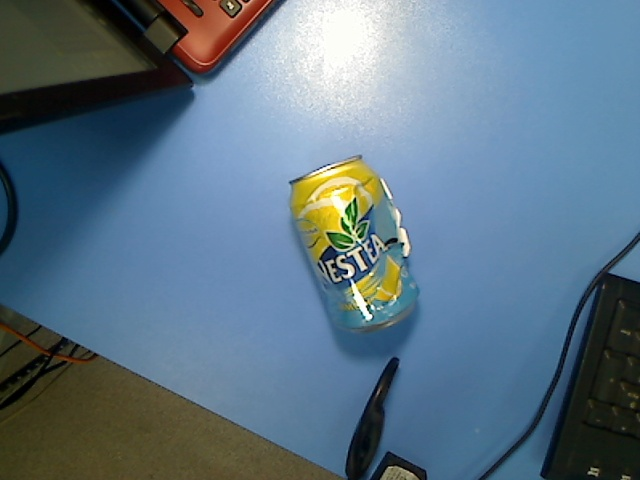can: (287, 153, 425, 337)
